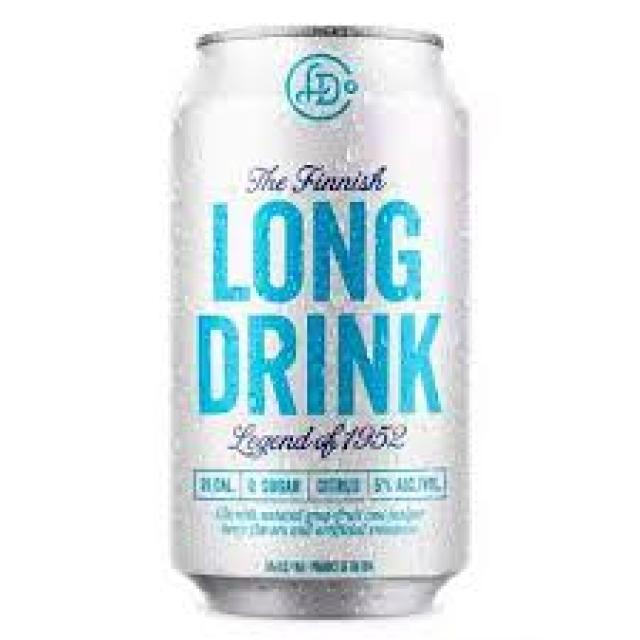Cans: (162, 20, 475, 626)
